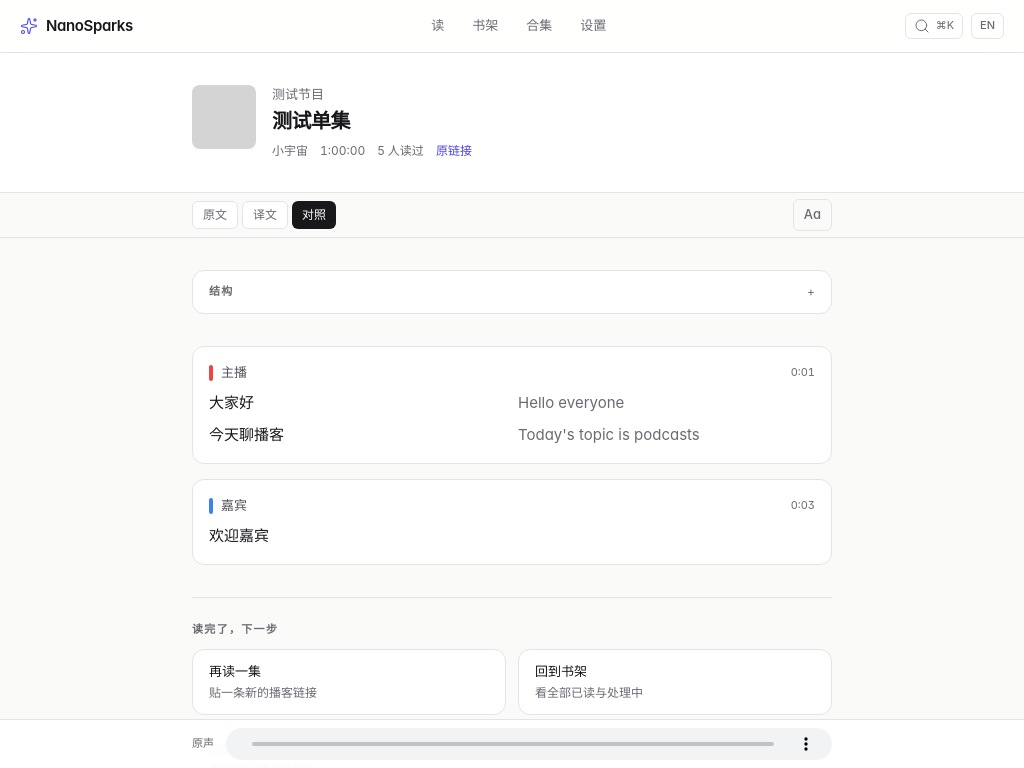
Test: ReaderShell › shows an inline-editable speaker name (PRD §A3 改名)
The width and height of the screenshot is (1024, 768).
// Click → becomes an input.
Click the button "主播" at x=234, y=372, box 221,362 -> 247,382
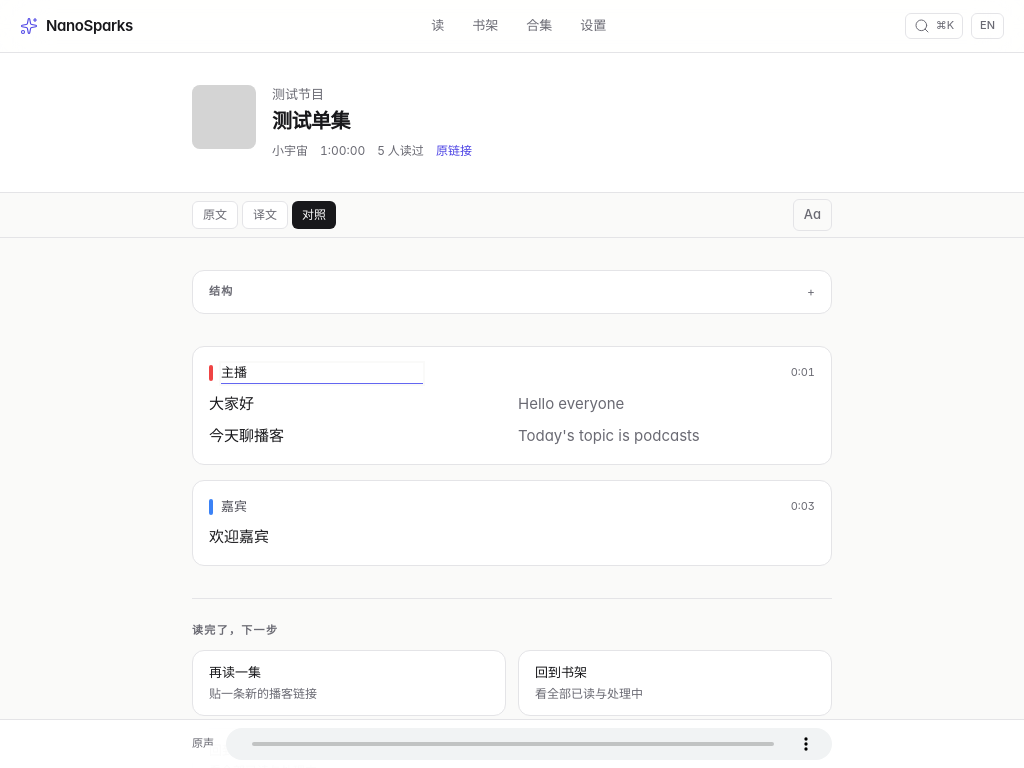
Expected: the field is shown, 221,362 -> 423,383
